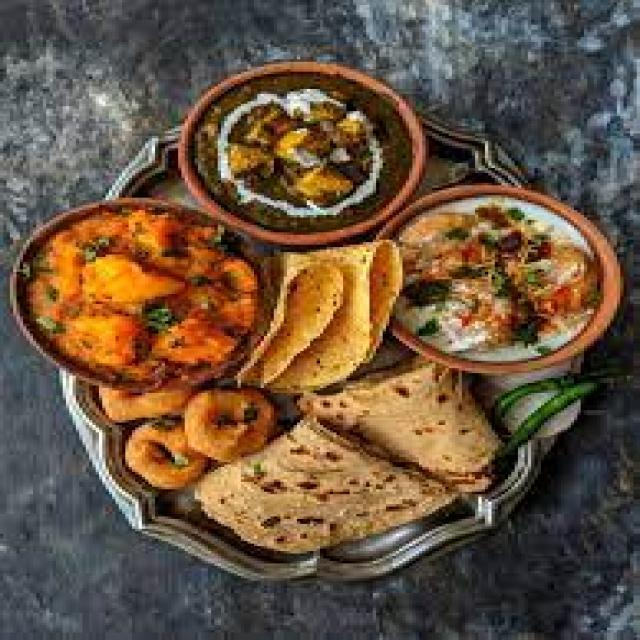papad: (302, 332, 521, 494), (228, 228, 417, 396)
roti: (199, 421, 477, 550), (302, 343, 519, 483)
veg-fry: (187, 70, 419, 242)
